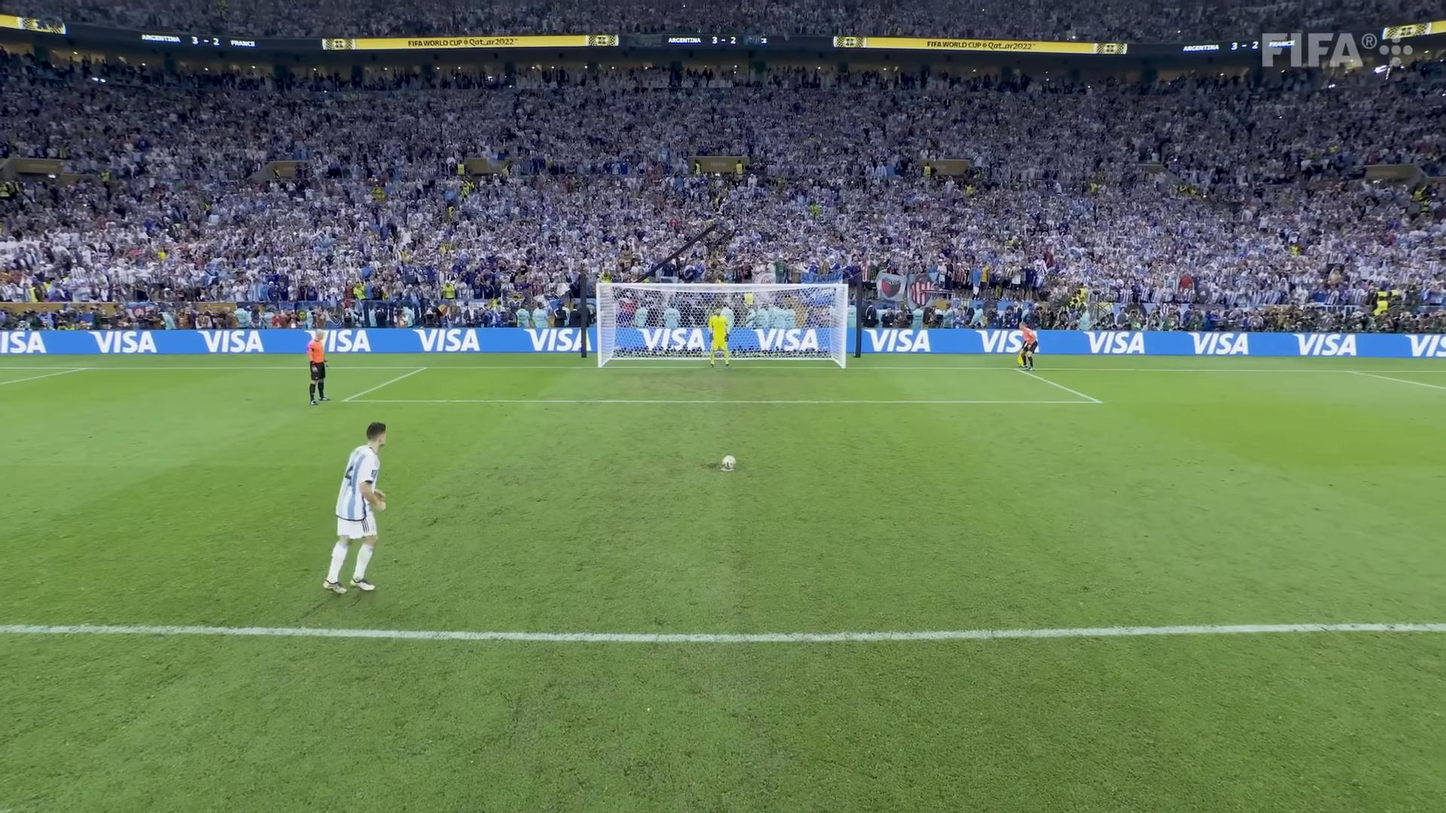Goalkeeper: (709, 311, 731, 366)
Player: (330, 421, 387, 590)
ball: (720, 454, 737, 471)
referee: (305, 330, 328, 402), (1020, 325, 1036, 370)
